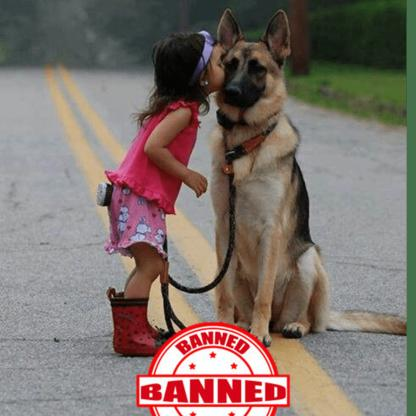dog: (210, 9, 407, 346)
